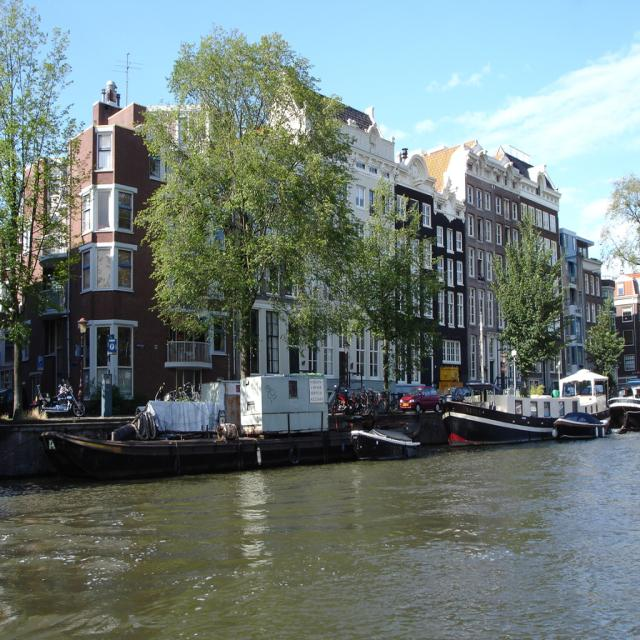Boat: (14, 378, 303, 481), (438, 398, 552, 441), (353, 420, 423, 460), (554, 412, 613, 441)
